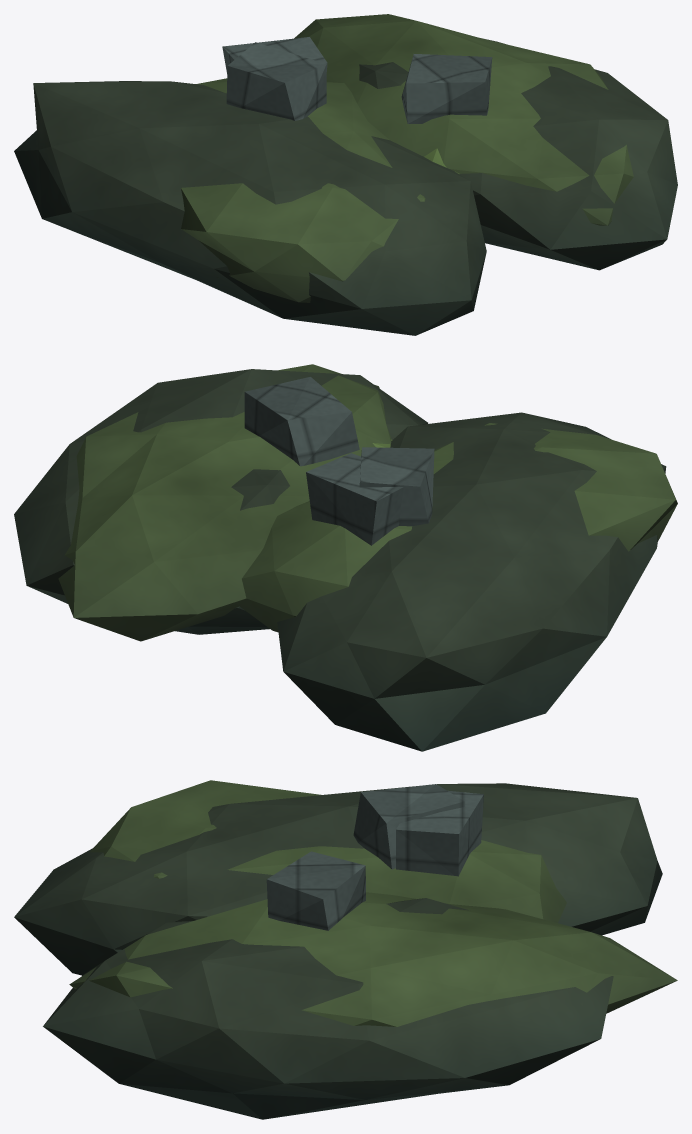
Rendered from mud_bank_c.glb.
The picture shows the model from 3 angles, top to bottom: view 1: azimuth 30°, elevation 25°; view 2: azimuth 150°, elevation 25°; view 3: azimuth 270°, elevation 25°; orthographic projection. The views are drawn at different scales.
Parts seen in each view (by area): view 1: mud_bank_c; view 2: mud_bank_c; view 3: mud_bank_c.
Boxes of the visible parts, x1,y1,x2,y2 form: mud_bank_c: (14,14,677,335); mud_bank_c: (14,364,677,751); mud_bank_c: (14,780,677,1119).
Bounding box in the file's own units: 3.72 × 1.16 × 3.78.
Materials: 2 (2 with a texture image).
